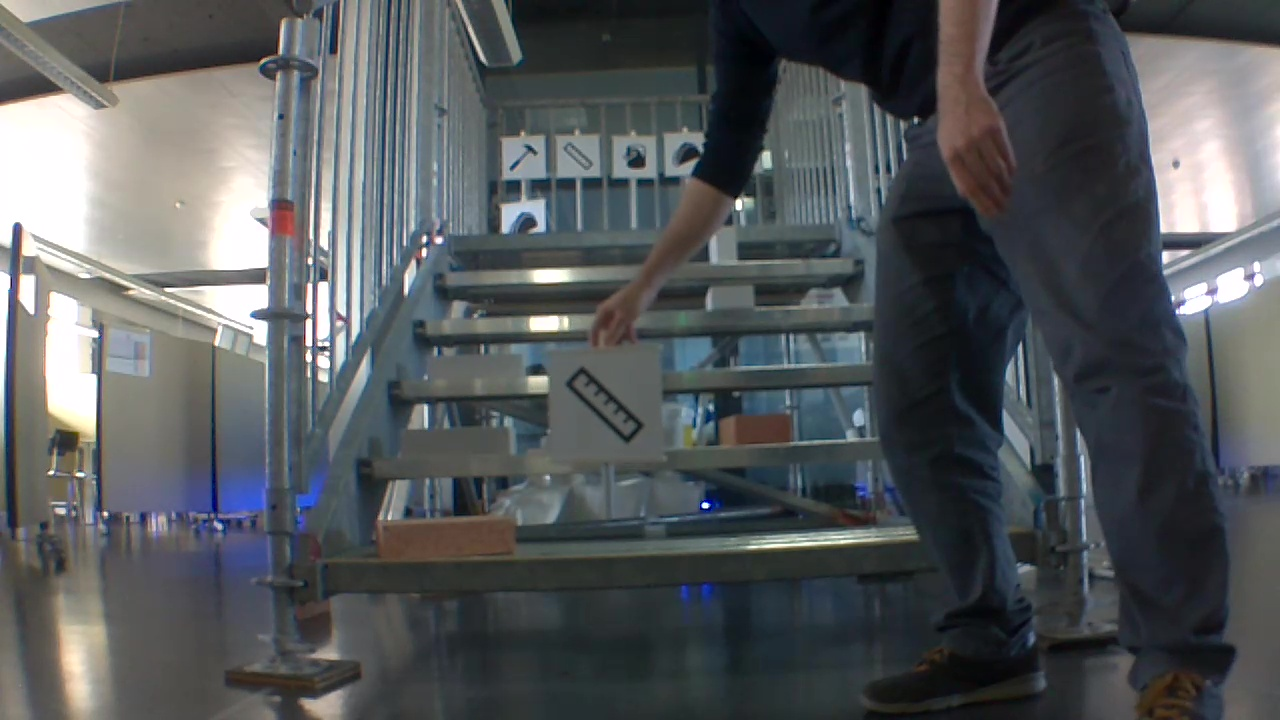brick: (374, 510, 524, 560), (404, 421, 518, 454), (427, 353, 532, 378), (725, 409, 796, 445), (700, 283, 753, 311), (711, 225, 735, 266)
bucket: (624, 141, 649, 168)
edge: (318, 542, 927, 599), (363, 443, 885, 482)
hammer: (507, 143, 540, 175)
ruler: (564, 365, 653, 449), (559, 141, 594, 169)
taco: (504, 208, 540, 236), (674, 141, 701, 165)
